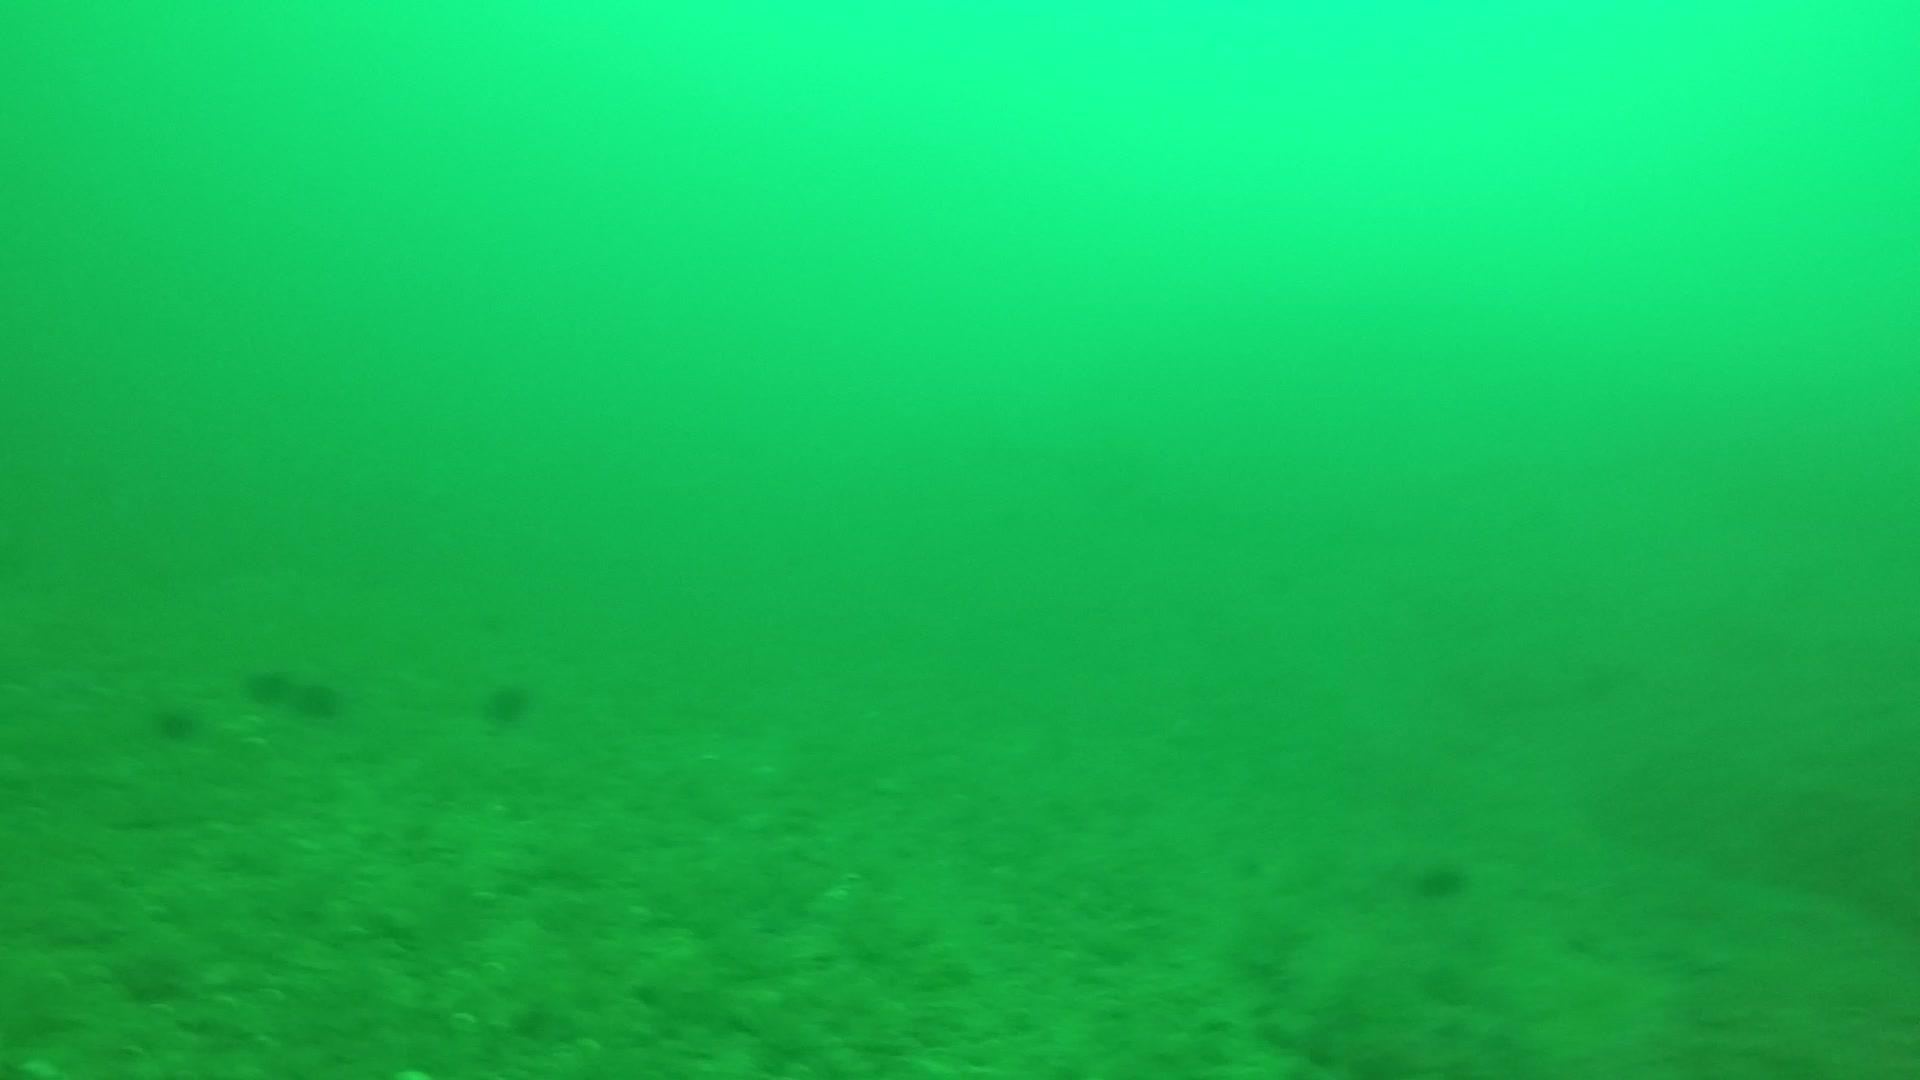echinus: (476, 673, 537, 731), (1408, 851, 1473, 905), (241, 659, 301, 713), (146, 695, 204, 746), (301, 674, 352, 723)
